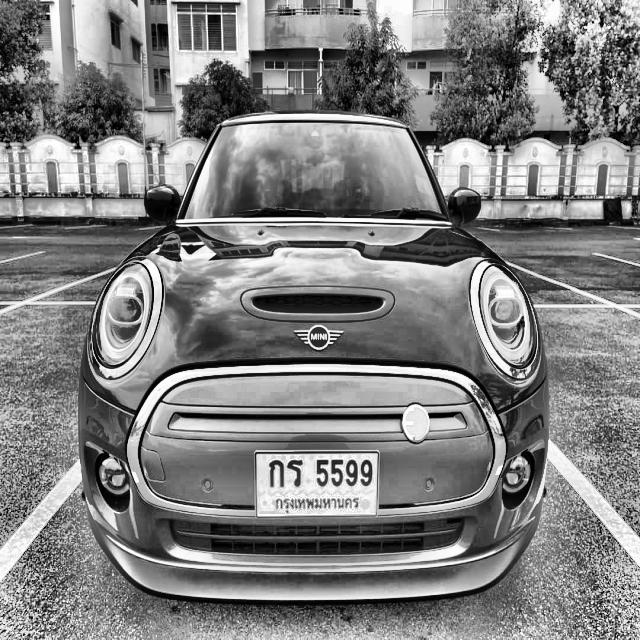license-plate: (254, 449, 378, 518)
